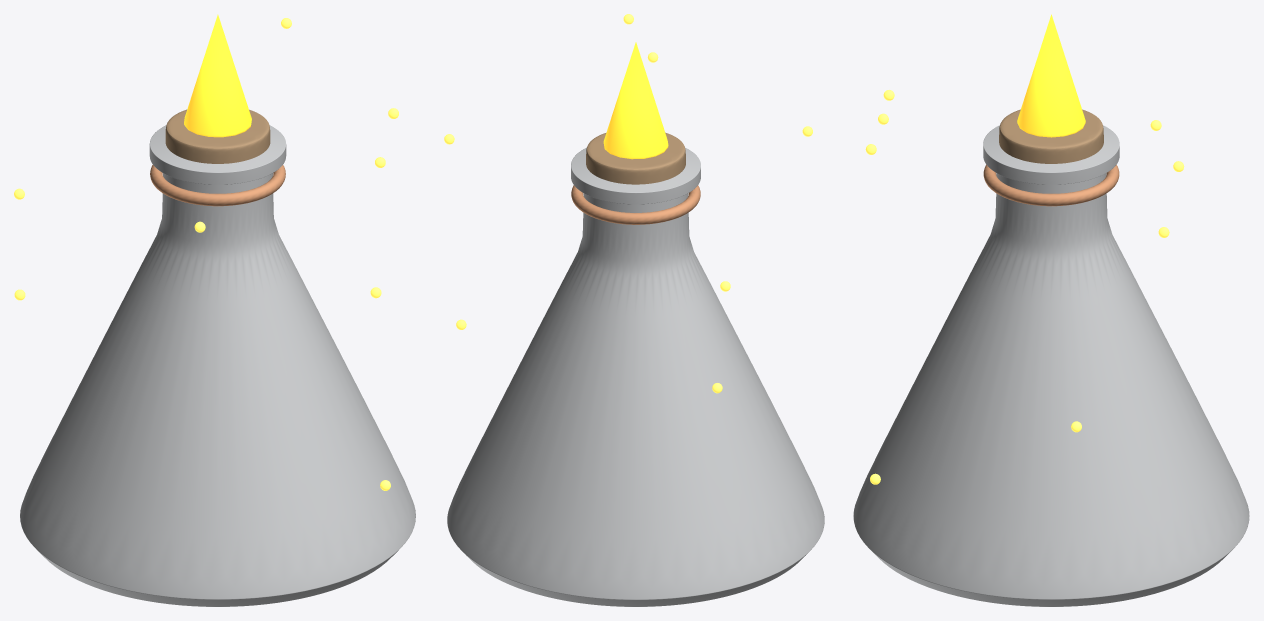
The model's file is fireelixir.glb.
3 renders of one model, left to right at view 1: azimuth 30°, elevation 25°; view 2: azimuth 150°, elevation 25°; view 3: azimuth 270°, elevation 25°, orthographic. The views are drawn at different scales.
Visible parts, largest first — view 1: FireElixir_Glass, FireElixir_Flame1, FireElixir_Cork, FireElixir_CopperRing; view 2: FireElixir_Glass, FireElixir_Flame1, FireElixir_Cork, FireElixir_CopperRing; view 3: FireElixir_Glass, FireElixir_Flame1, FireElixir_Cork, FireElixir_CopperRing.
Part boxes in pixels (<box>): FireElixir_Glass: <box>20,125,415,606</box>; FireElixir_Flame1: <box>184,14,251,137</box>; FireElixir_Cork: <box>165,109,270,163</box>; FireElixir_CopperRing: <box>150,165,285,206</box>; FireElixir_Glass: <box>447,147,824,606</box>; FireElixir_Flame1: <box>603,42,668,159</box>; FireElixir_Cork: <box>586,132,685,184</box>; FireElixir_CopperRing: <box>571,185,700,224</box>; FireElixir_Glass: <box>853,125,1249,606</box>; FireElixir_Flame1: <box>1017,14,1085,137</box>; FireElixir_Cork: <box>999,109,1103,163</box>; FireElixir_CopperRing: <box>983,164,1119,206</box>.
Size of the model in its own units: 1.82 by 2.57 by 1.79.
